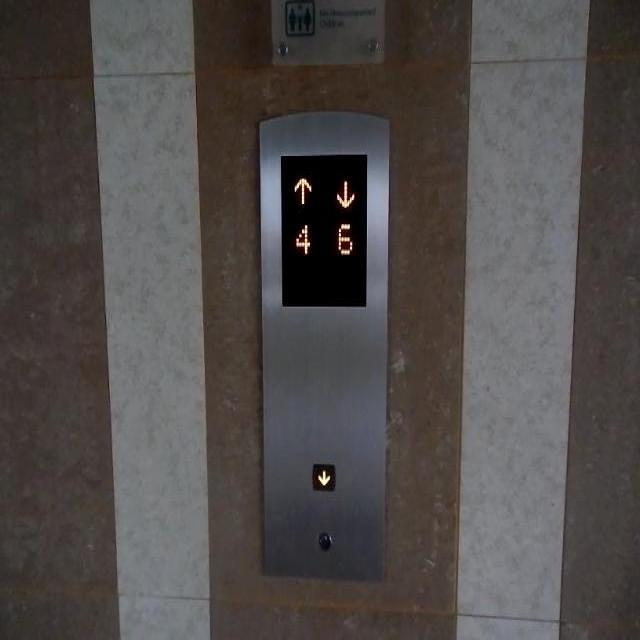down: (309, 459, 335, 492)
indicator: (315, 528, 331, 549)
led: (276, 149, 369, 311)
